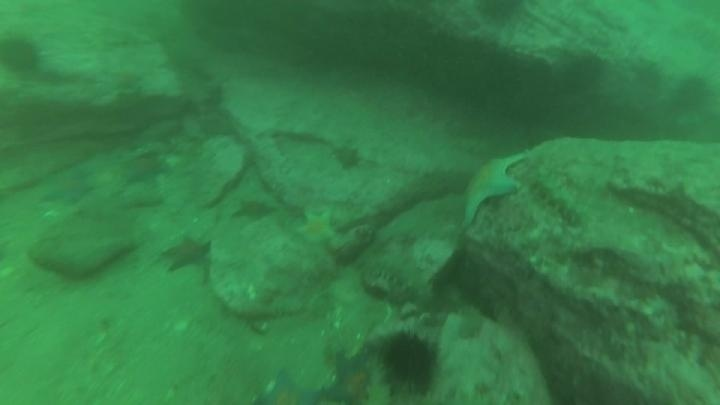echinus: (377, 328, 443, 394), (558, 51, 607, 97), (1, 32, 43, 77), (671, 73, 713, 115), (471, 1, 533, 28)
holothurian: (361, 251, 436, 304), (529, 169, 586, 228)
starfish: (458, 151, 525, 227), (322, 352, 376, 404), (254, 367, 323, 404), (160, 232, 214, 276), (39, 168, 97, 208), (294, 207, 340, 248), (119, 151, 169, 188), (230, 195, 277, 224), (330, 143, 363, 170)
